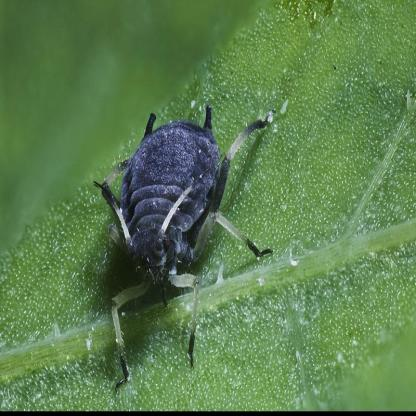aphid: (92, 89, 279, 381)
